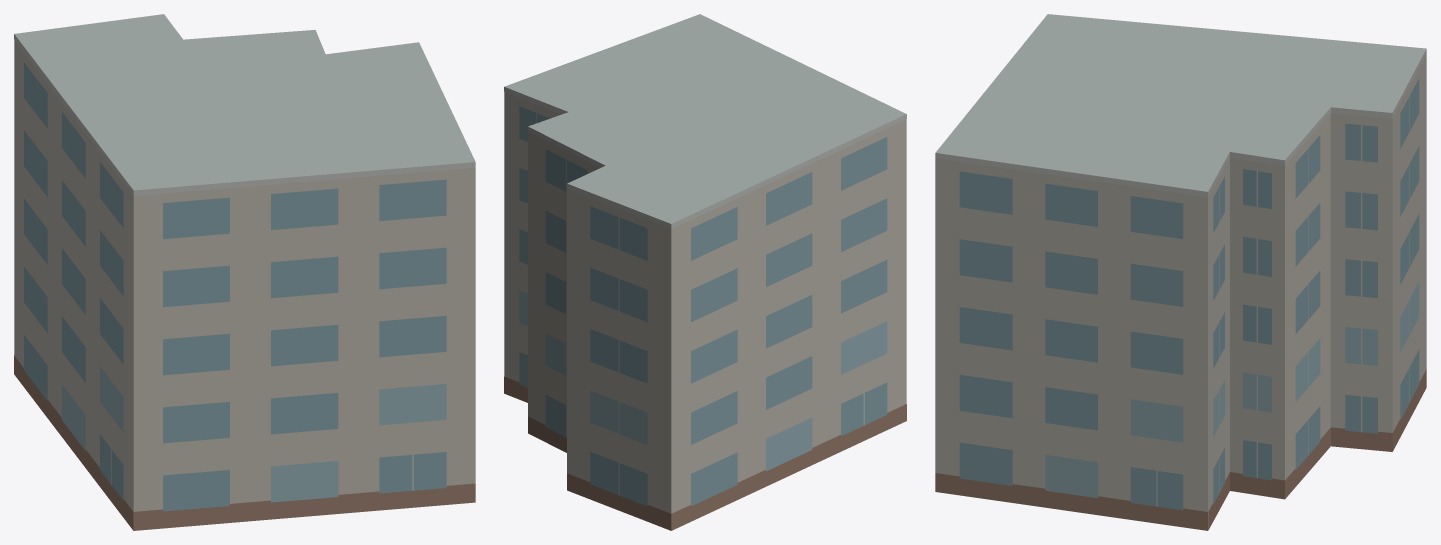
The model's file is residential-d5cc02f0-22c0-49ca-beea-12a2588fec74.glb.
3 renders of one model, left to right at view 1: azimuth 30°, elevation 25°; view 2: azimuth 150°, elevation 25°; view 3: azimuth 270°, elevation 25°, orthographic. The views are drawn at different scales.
Visible parts, largest first — view 1: residential-d5cc02f0-22c0-49ca-beea-12a2588fec74.tmp; view 2: residential-d5cc02f0-22c0-49ca-beea-12a2588fec74.tmp; view 3: residential-d5cc02f0-22c0-49ca-beea-12a2588fec74.tmp.
Boxes of the visible parts, box(x1,y1,x2,y2) form: residential-d5cc02f0-22c0-49ca-beea-12a2588fec74.tmp: box(14, 14, 475, 530); residential-d5cc02f0-22c0-49ca-beea-12a2588fec74.tmp: box(504, 14, 906, 530); residential-d5cc02f0-22c0-49ca-beea-12a2588fec74.tmp: box(935, 14, 1426, 530).
Bounding box in the file's own units: 16.78 × 14.9 × 19.58.
